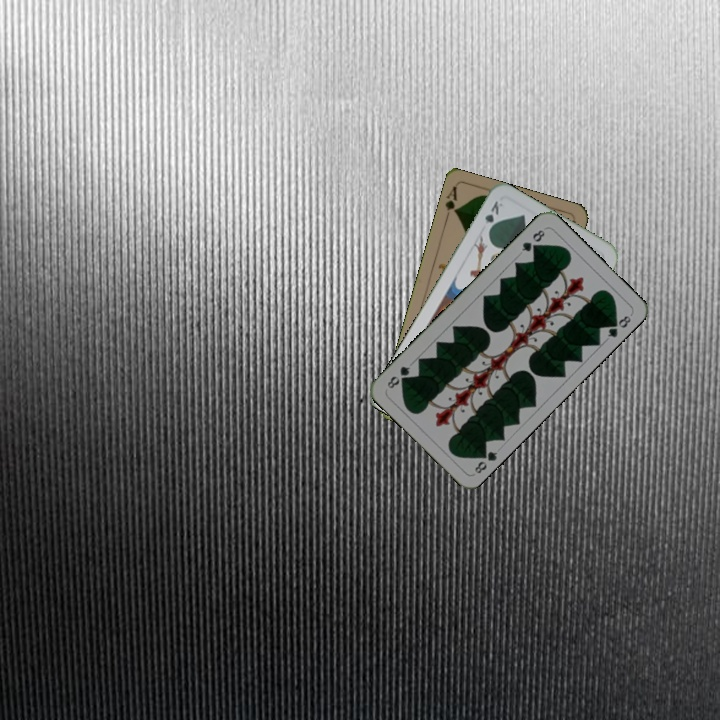G8: (470, 445, 500, 476), (517, 225, 548, 254)
GA: (441, 183, 461, 223)
GK: (481, 197, 505, 236)
